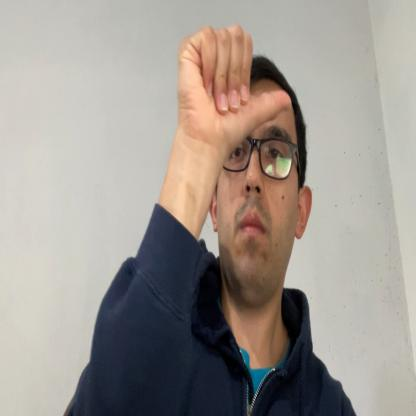A: (177, 19, 292, 150)
